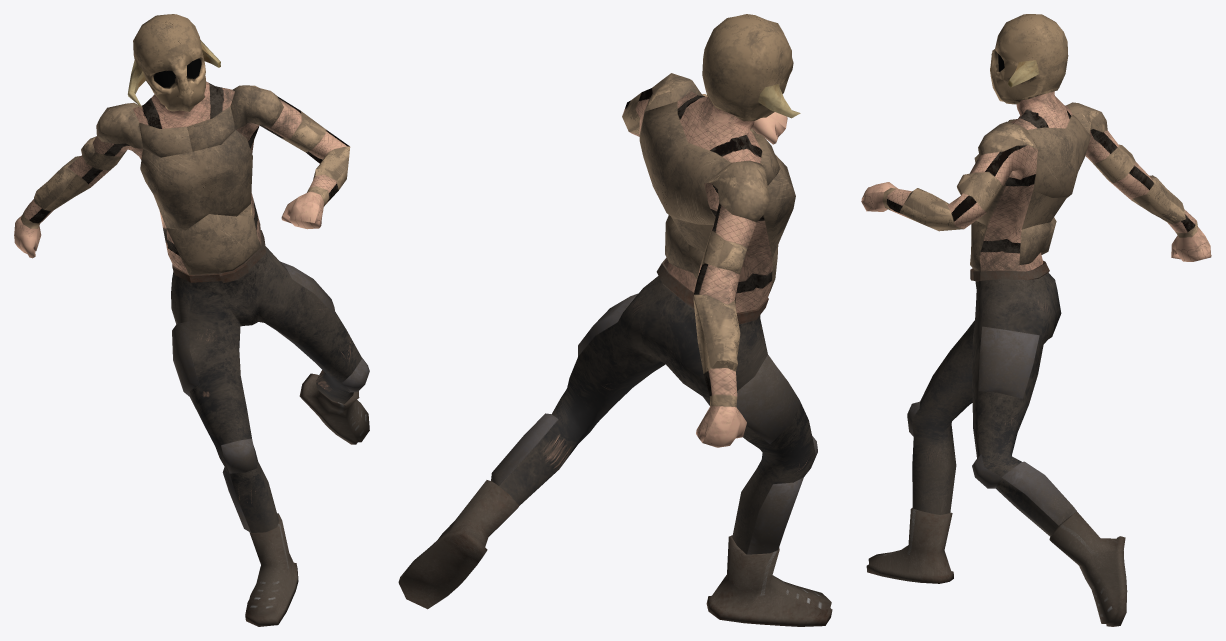
File: Anim_ataque_f3_npc1.0027.obj
3 views of the same model, side by side, from view 1: azimuth 30°, elevation 25°; view 2: azimuth 150°, elevation 25°; view 3: azimuth 270°, elevation 25° (orthographic). The views are drawn at different scales.
Visible parts, largest first — view 1: NPC2; view 2: NPC2; view 3: NPC2.
Part boxes in pixels (box(x1,y1,x2,y2)): NPC2: box(14, 14, 369, 626); NPC2: box(398, 14, 832, 626); NPC2: box(861, 14, 1211, 626).
Bounding box in the file's own units: 5.5 × 9.22 × 5.37.
